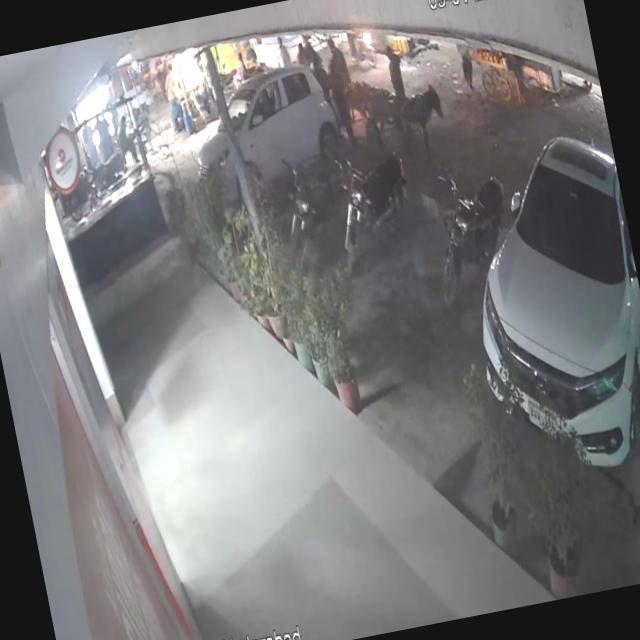Car: (441, 108, 640, 507), (182, 58, 367, 216)
Motorcycle: (328, 134, 428, 282), (418, 162, 507, 308), (278, 156, 358, 274)
